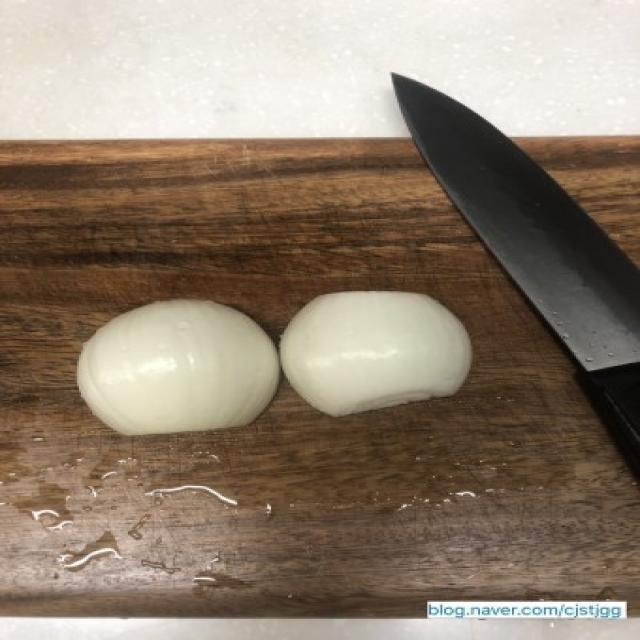onion: (60, 286, 274, 444), (282, 284, 476, 424)
